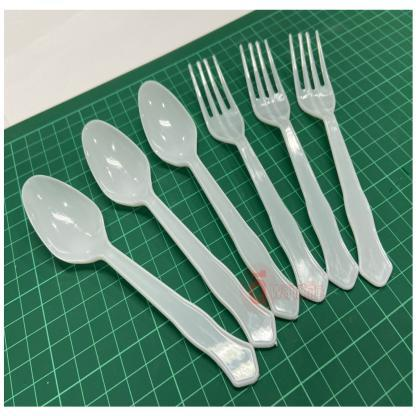Others: (19, 30, 393, 388)
